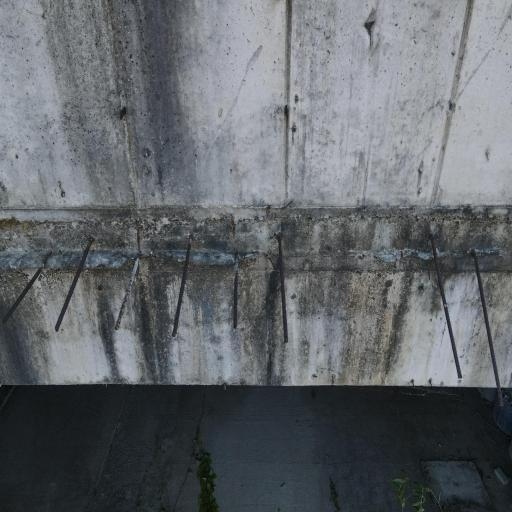exposed_rebar: (471, 249, 504, 407), (429, 233, 462, 379), (55, 236, 94, 331), (2, 251, 52, 325), (172, 233, 193, 336), (115, 258, 139, 331), (278, 231, 288, 343), (233, 251, 239, 329)
